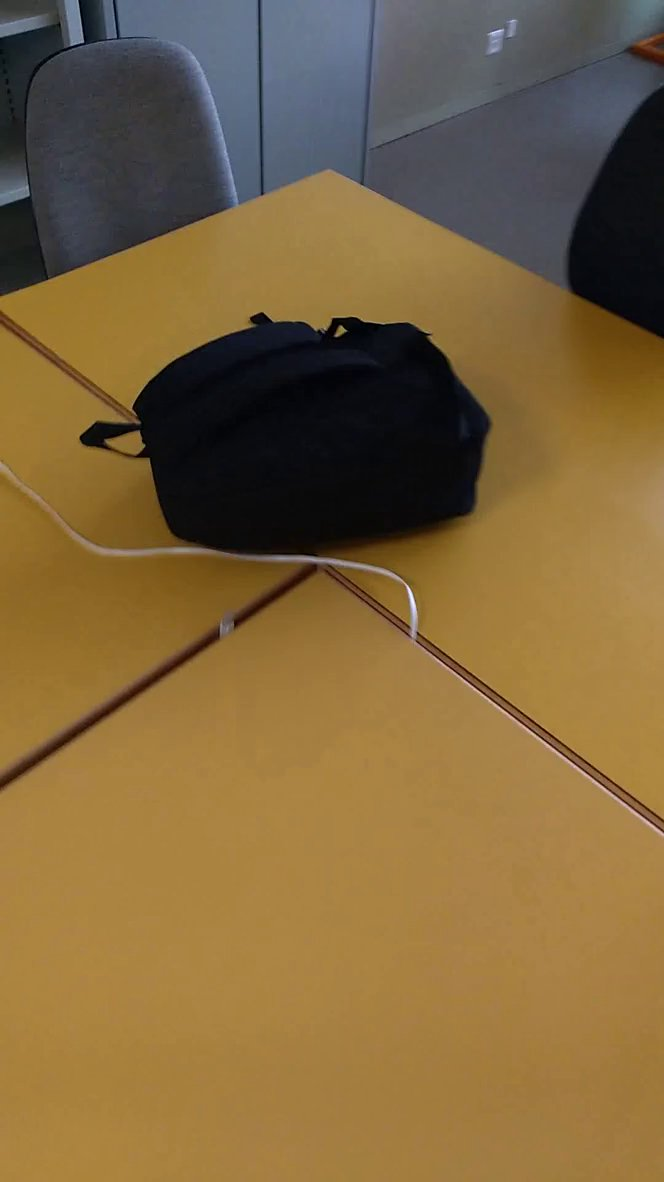bag: (76, 307, 509, 569)
chair: (15, 18, 253, 289)
